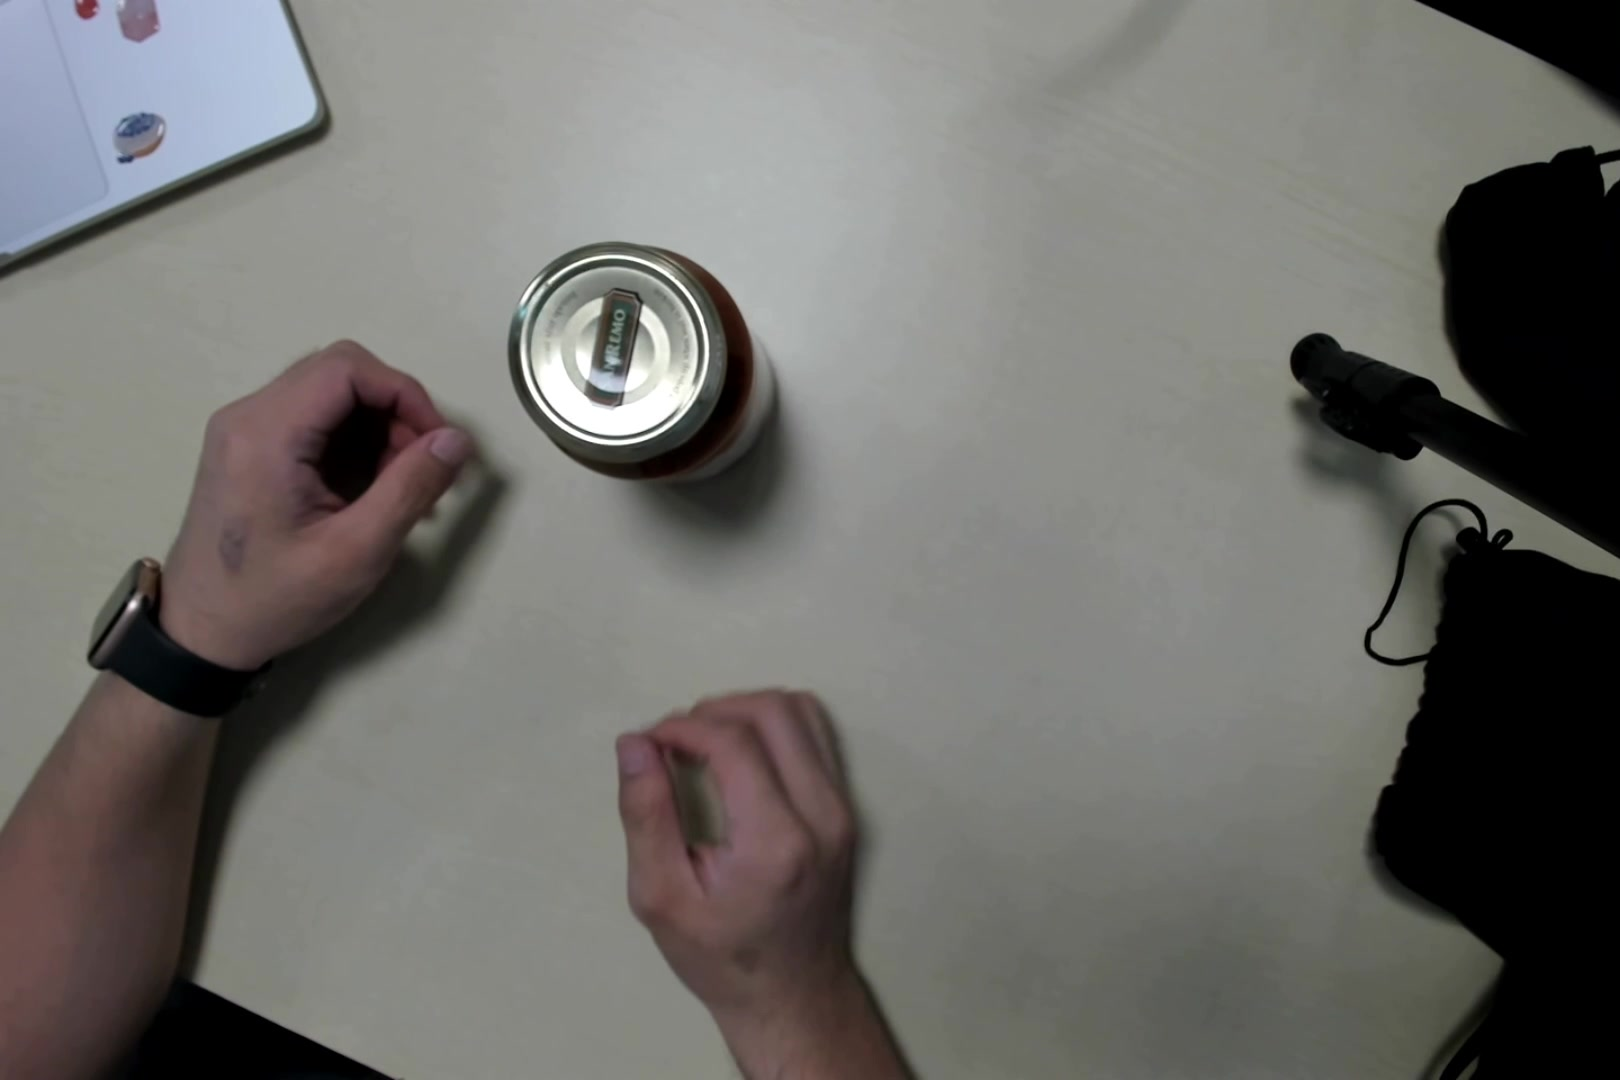PastaSauce_500-599g_NonHalal_NonHealthy: (516, 241, 781, 487)
